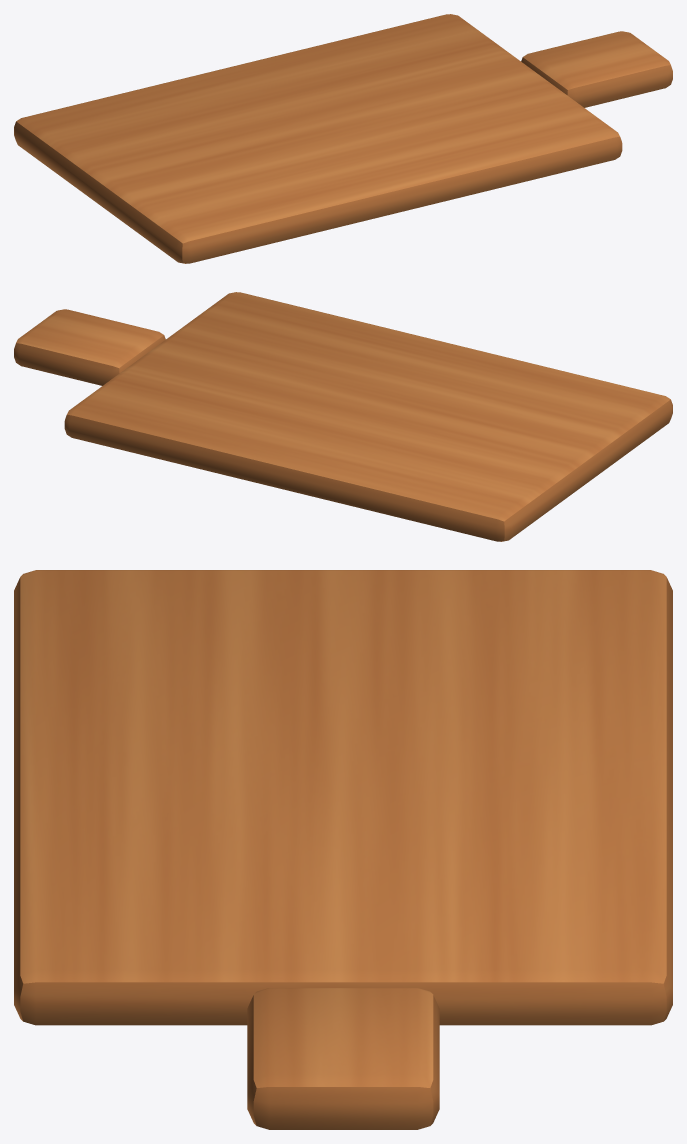
File: SM_Cutting_Board.fbx
The picture shows the model from 3 angles, top to bottom: view 1: azimuth 30°, elevation 25°; view 2: azimuth 150°, elevation 25°; view 3: azimuth 270°, elevation 25°; orthographic projection. The views are drawn at different scales.
Parts seen in each view (by area): view 1: SM_Cutting_Board; view 2: SM_Cutting_Board; view 3: SM_Cutting_Board.
Boxes of the visible parts, <box> form: SM_Cutting_Board: <box>14,14,672,263</box>; SM_Cutting_Board: <box>14,292,672,541</box>; SM_Cutting_Board: <box>14,570,672,1129</box>.
Bounding box in the file's own units: 0.45 × 0.022 × 0.24.
1 material, 1 textured.
